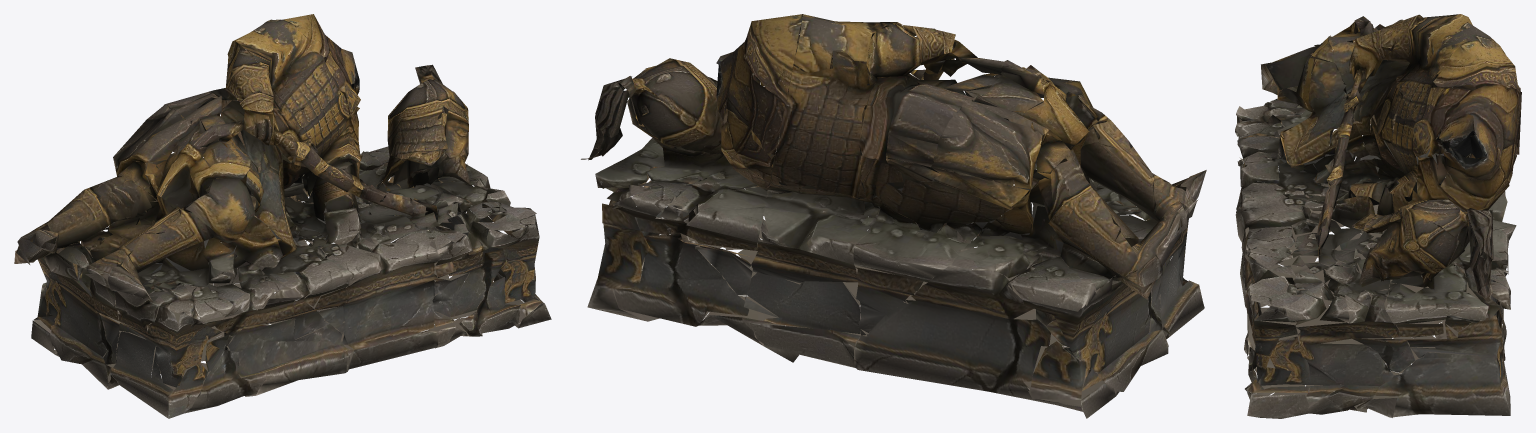
The model's file is GoldenStatue.fbx.
The picture shows the model from 3 angles, left to right: view 1: azimuth 30°, elevation 25°; view 2: azimuth 150°, elevation 25°; view 3: azimuth 270°, elevation 25°; orthographic projection. The views are drawn at different scales.
Visible parts, largest first — view 1: GoldenStatue_Body; view 2: GoldenStatue_Body; view 3: GoldenStatue_Body.
Boxes of the visible parts, x1,y1,x2,y2 form: GoldenStatue_Body: (14,14,551,418); GoldenStatue_Body: (581,14,1206,418); GoldenStatue_Body: (1235,14,1521,418).
Size of the model in its own units: 1.75 by 1 by 0.8645.
Materials: 1 (1 with a texture image).
